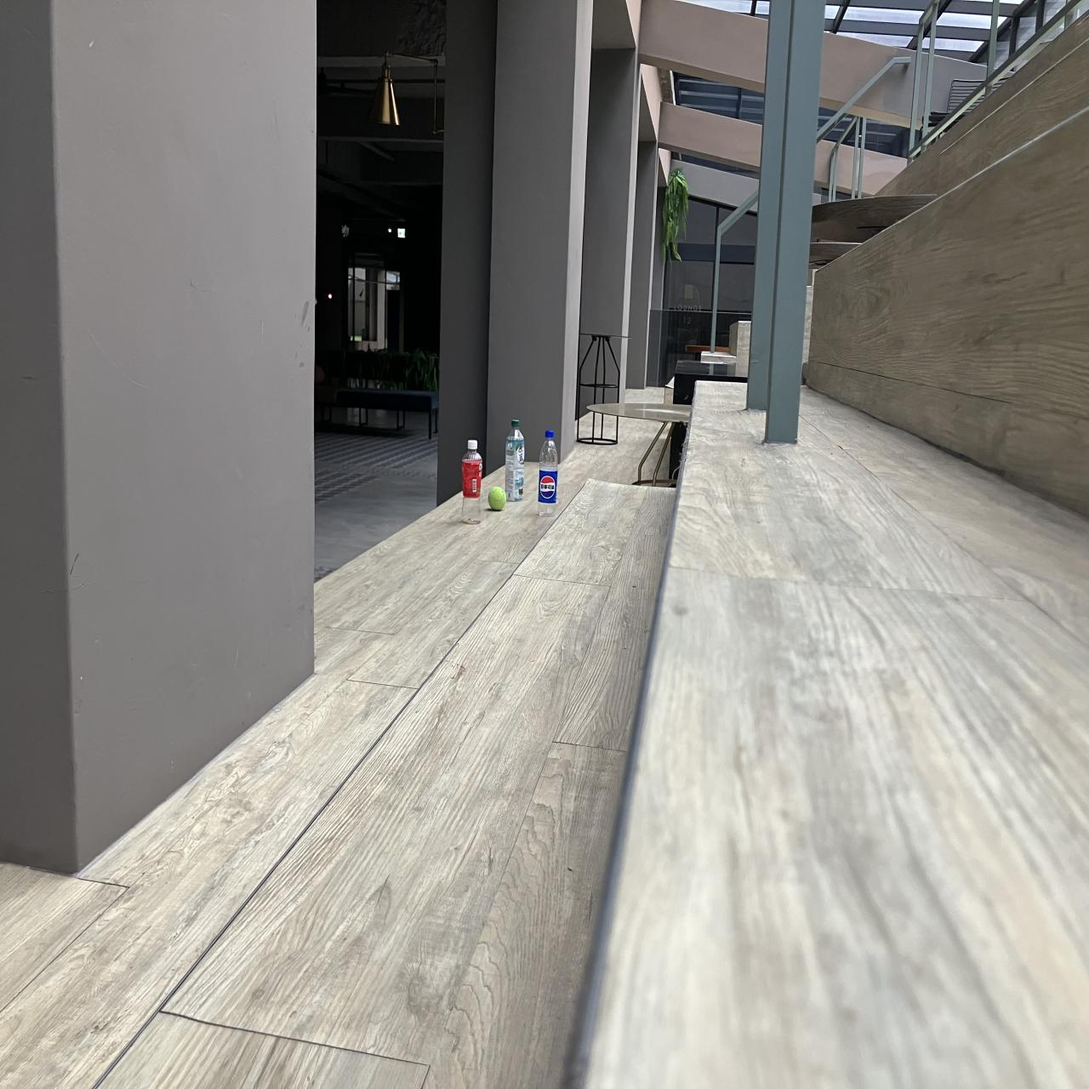plastic-bottle: (462, 440, 482, 524), (505, 419, 525, 501), (539, 430, 558, 516)
tennisball: (488, 487, 506, 510)
